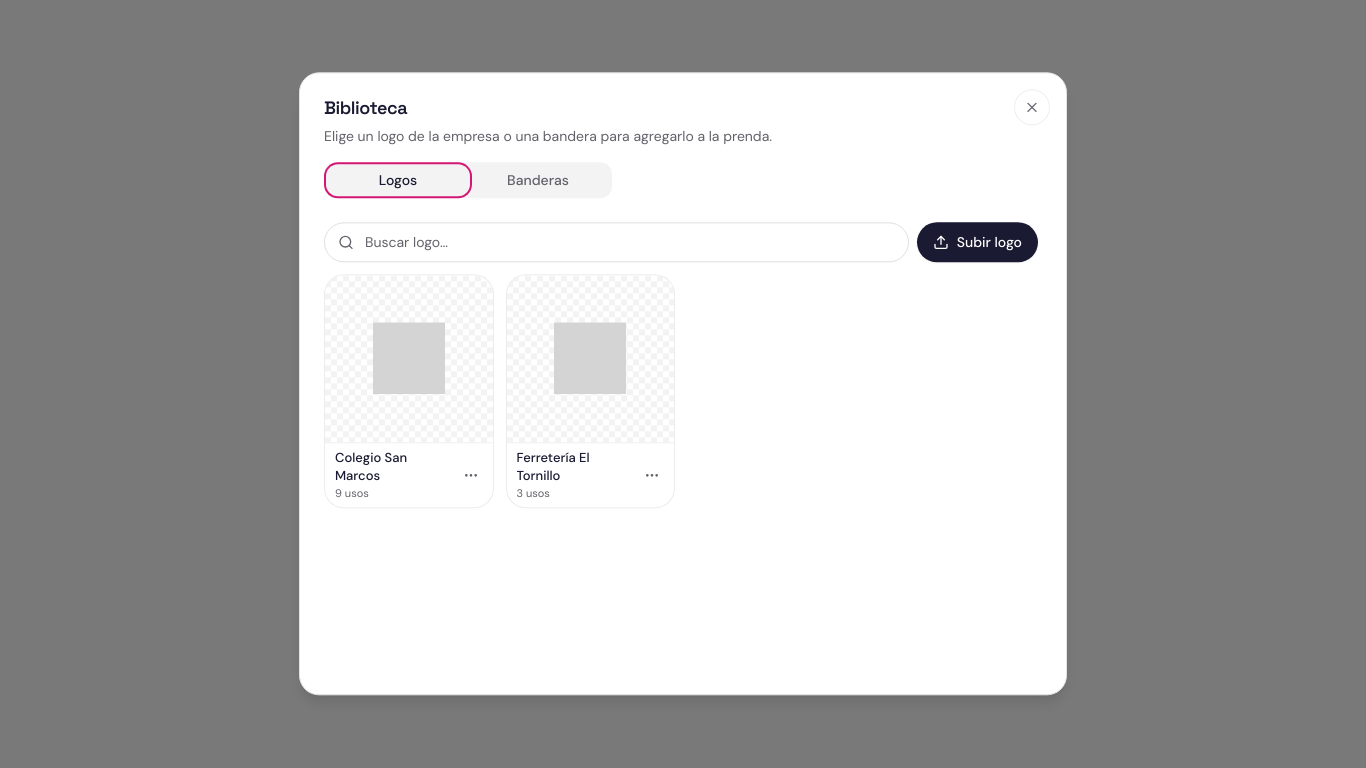
Scenario: Biblioteca · Logos › eliminar pide confirmación nombrando a quién lo subió; cancelar lo deja
Click the button named "Opciones de Colegio San Marcos".
click(470, 476)  # box [454,460,486,492]
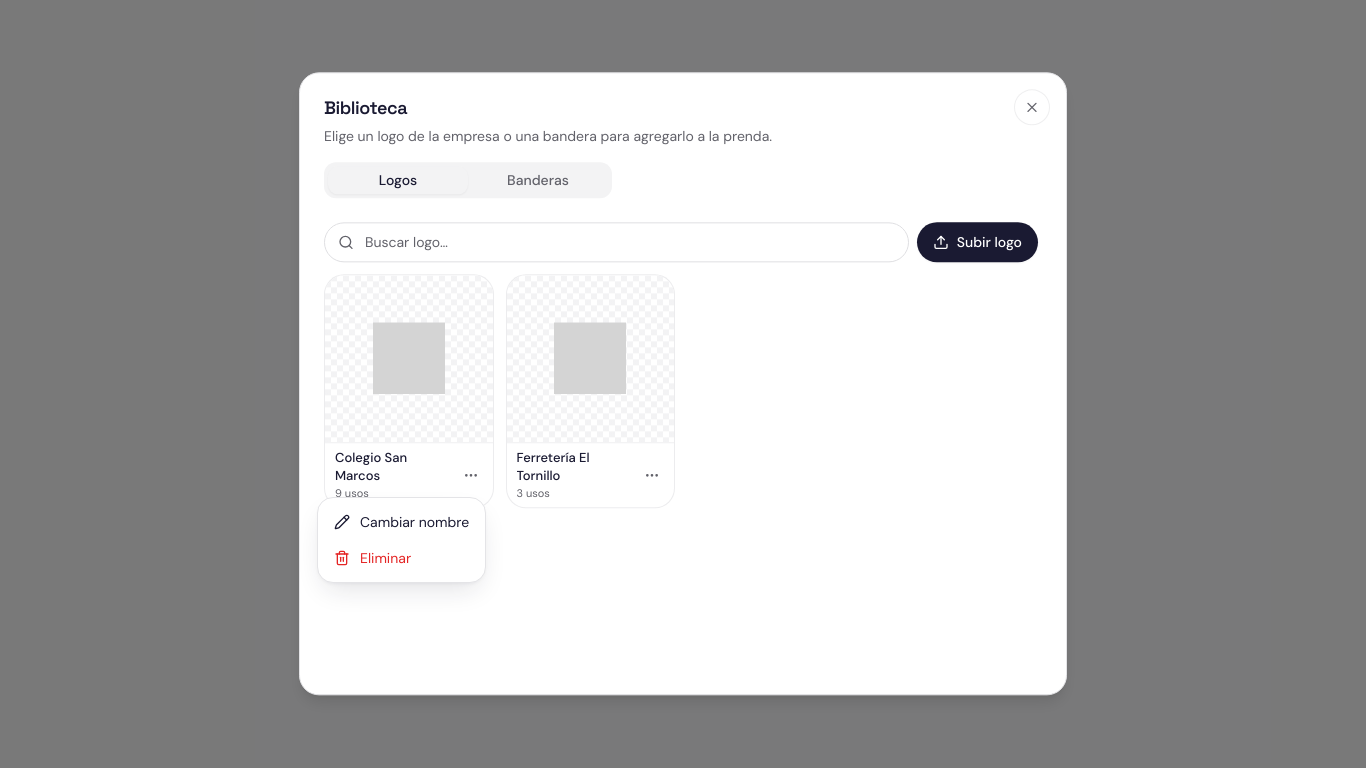
Click the menu item "Eliminar".
click(373, 558)  # box [334,549,411,567]
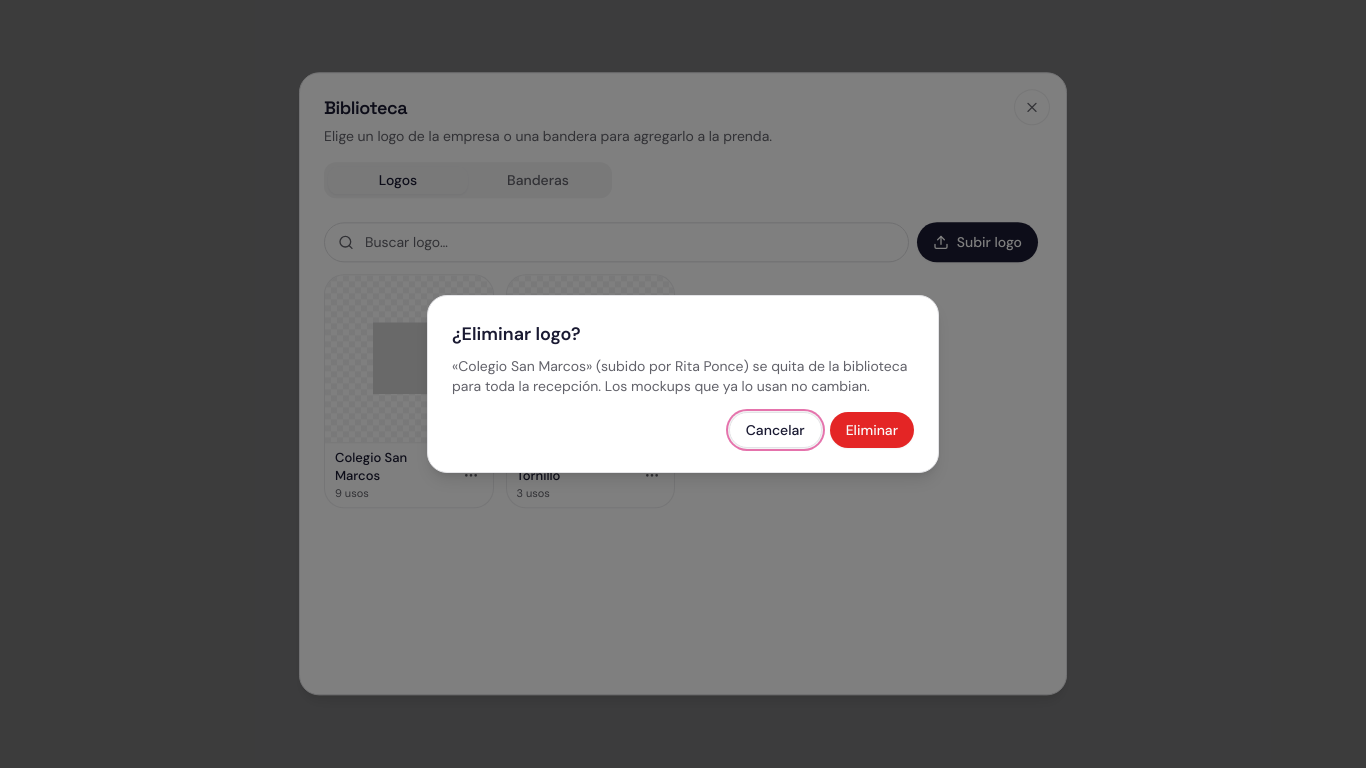
Now the dialog "¿Eliminar logo?" shows "«Colegio San Marcos» (subido por Rita Ponce)", box [452,357,907,395]
Click the button "Cancelar".
click(775, 430)  # box [729,412,822,448]
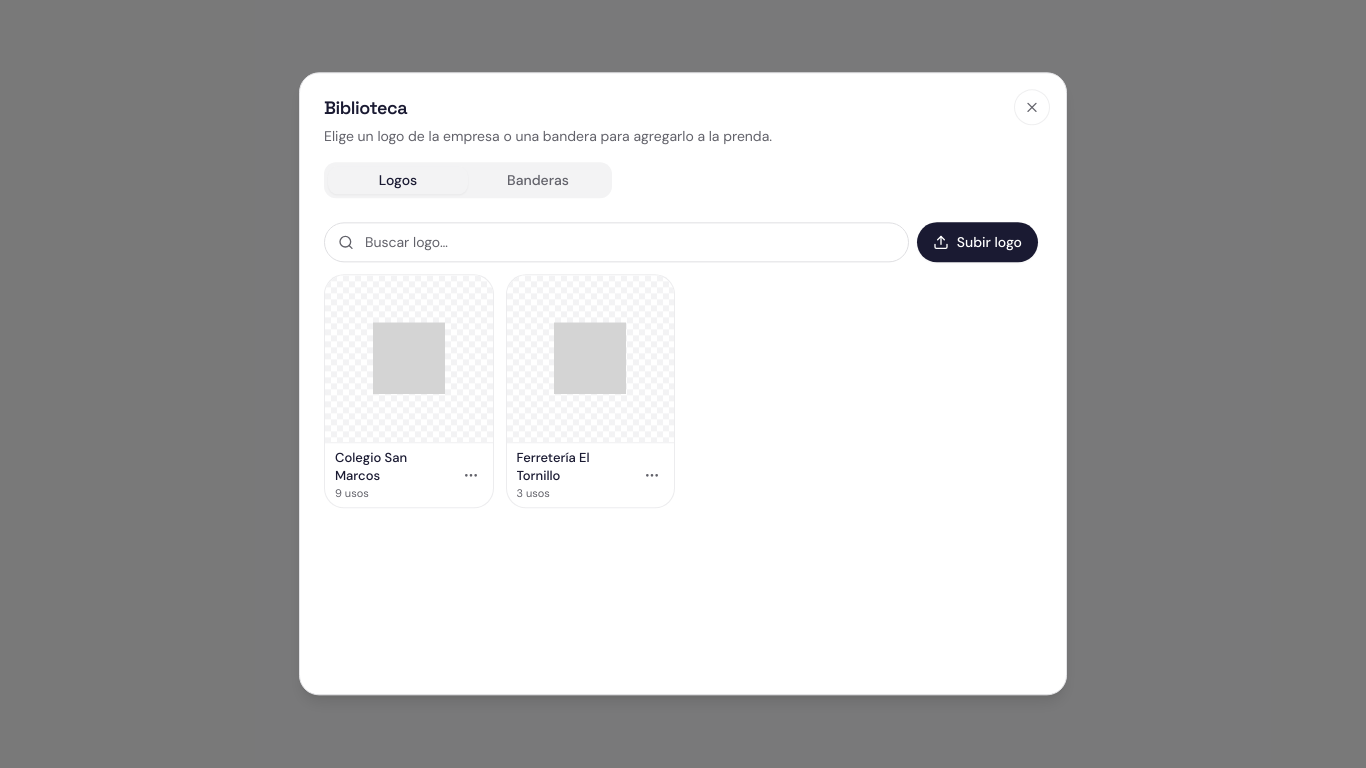
Expected: the text "Colegio San Marcos" is shown, [335,449,407,484]
Click the button named "Opciones de Colegio San Marcos".
click(470, 476)  # box [454,460,486,492]
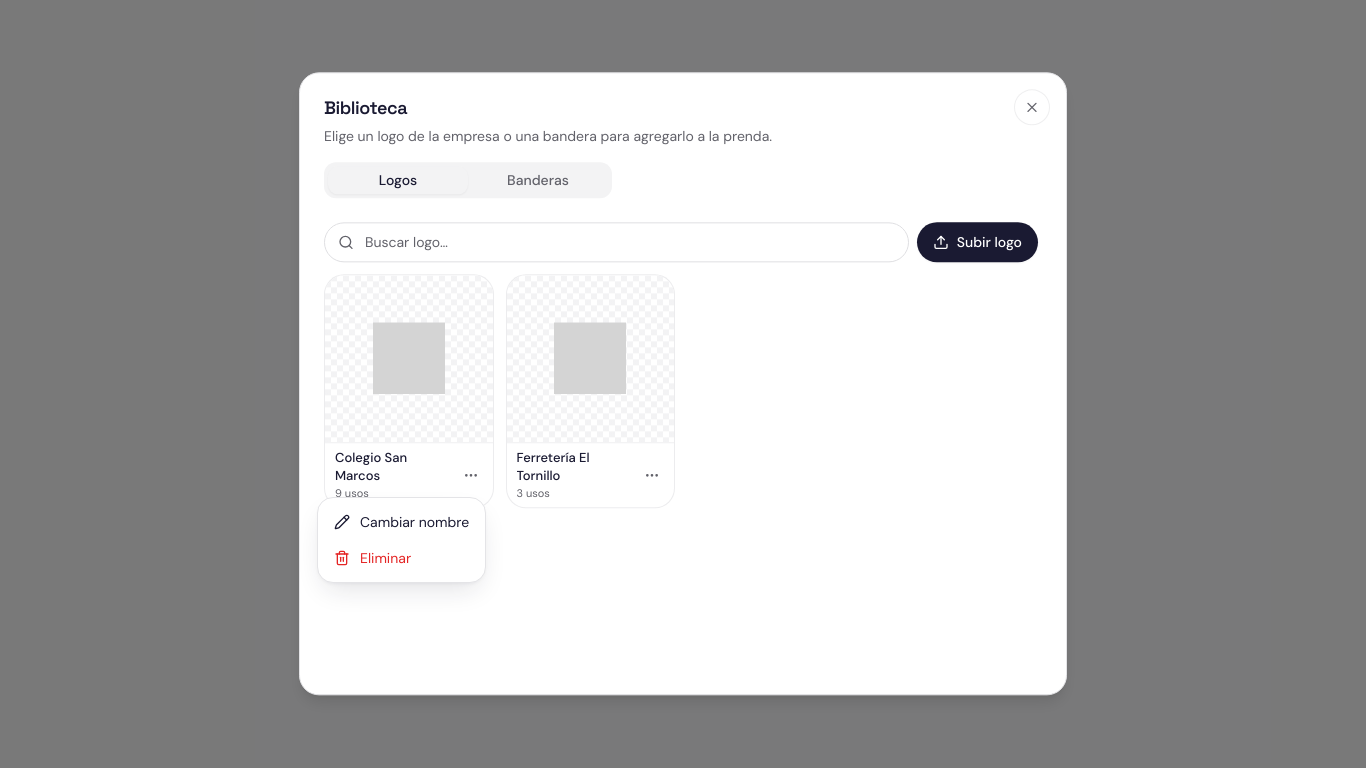
Click the menu item "Eliminar".
click(373, 558)  # box [334,549,411,567]
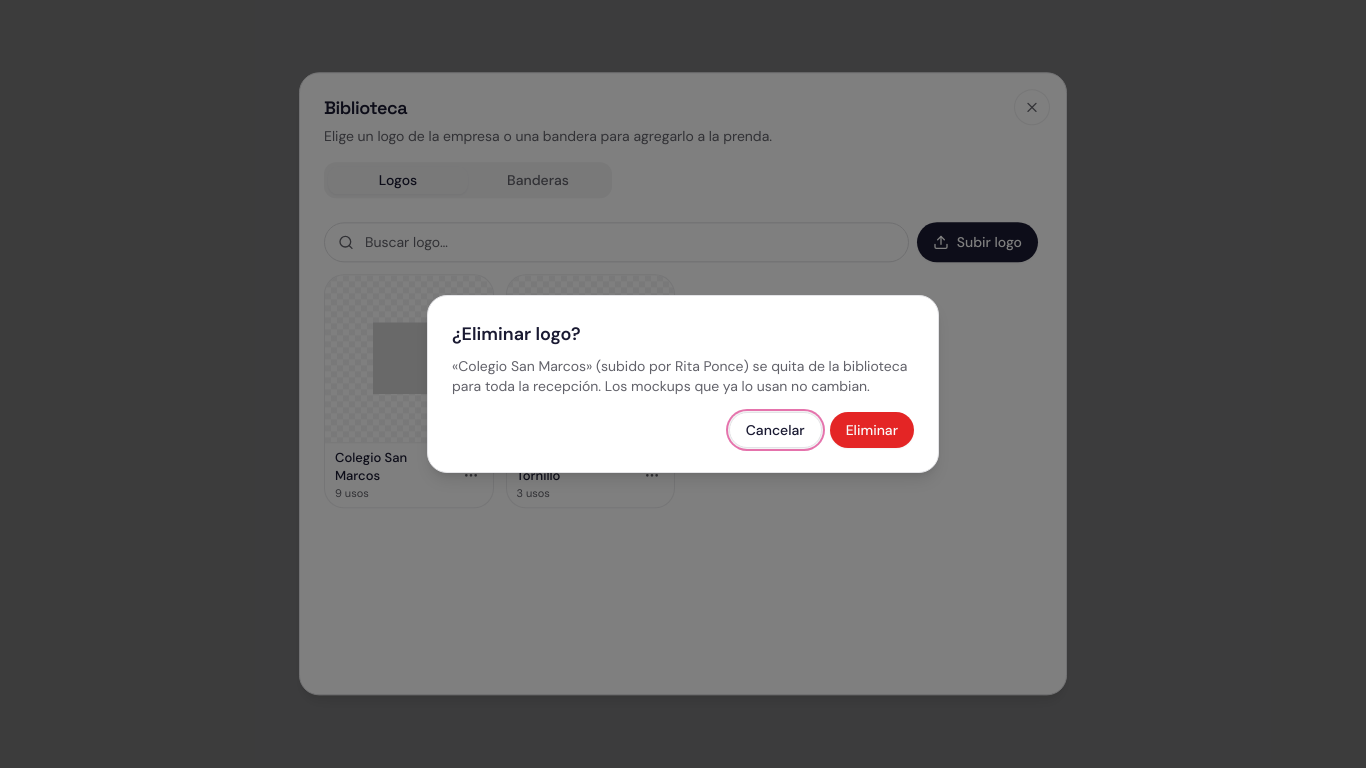
Click the button "Eliminar".
click(872, 430)  # box [830,412,914,448]
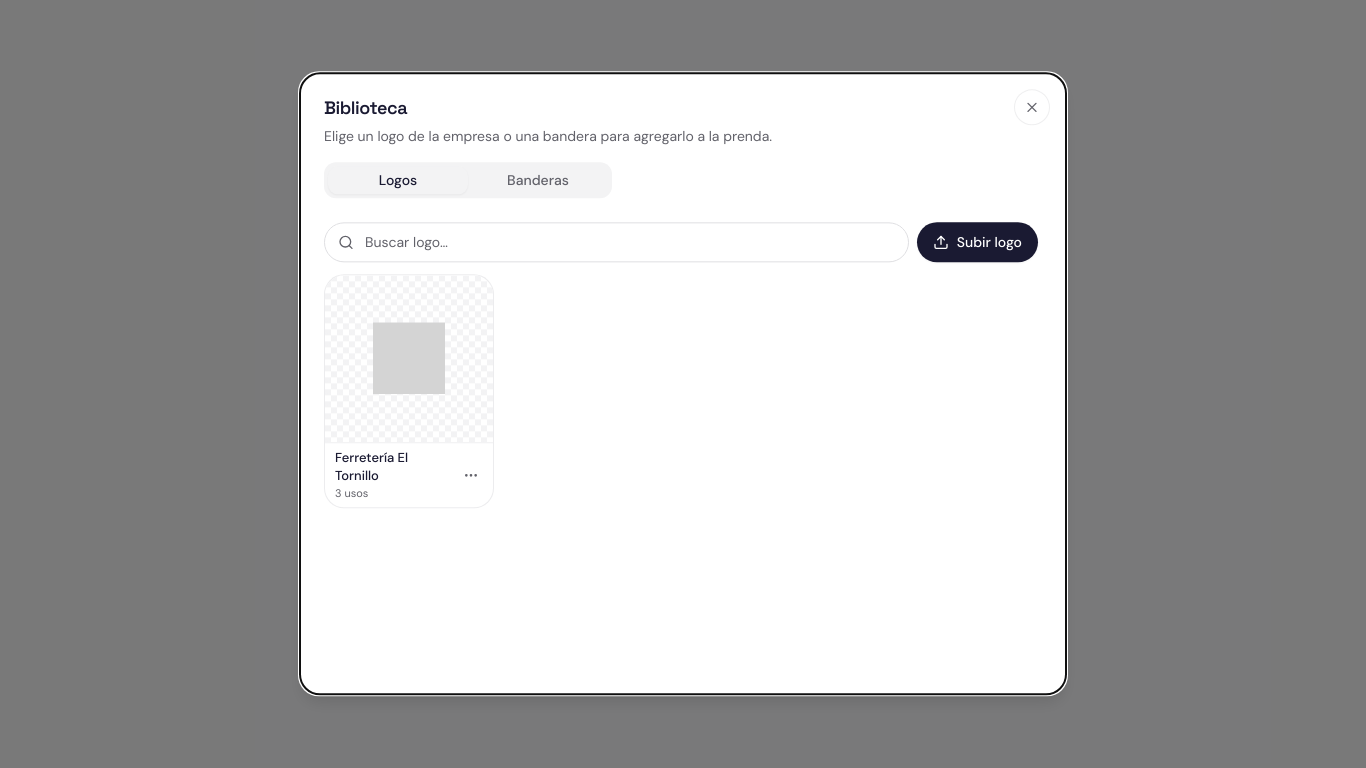
Now the text "Colegio San Marcos" is gone
